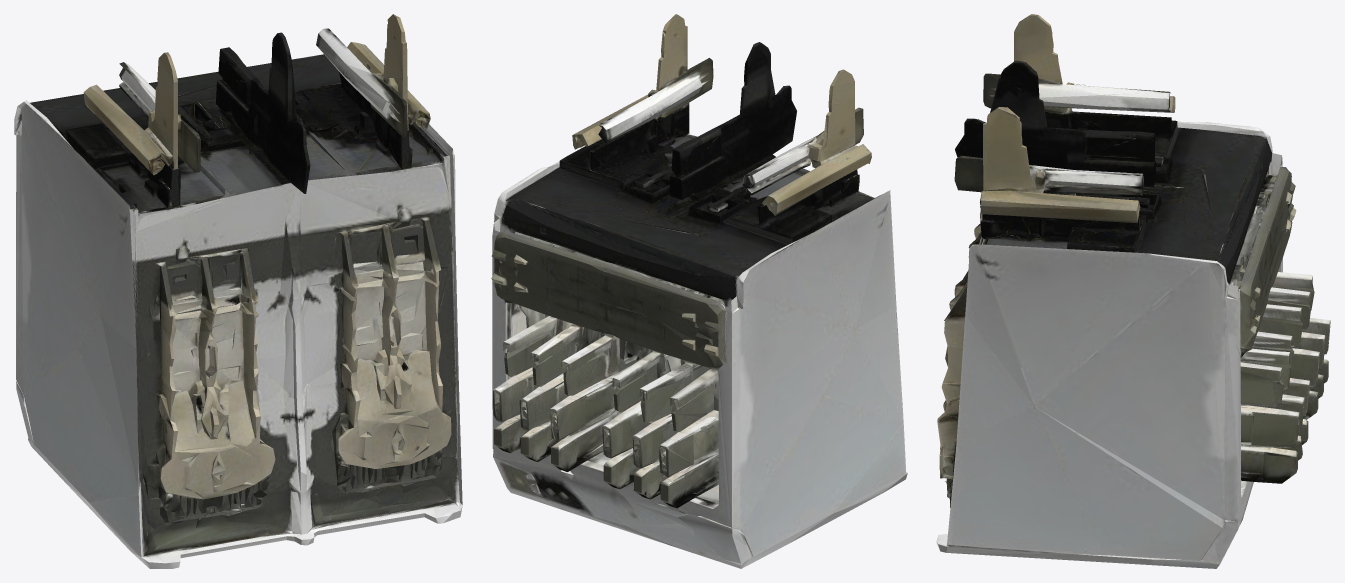
3 views of the same model, side by side, from view 1: azimuth 30°, elevation 25°; view 2: azimuth 150°, elevation 25°; view 3: azimuth 270°, elevation 25° (orthographic). The views are drawn at different scales.
Parts seen in each view (by area): view 1: 0; view 2: 0; view 3: 0.
Boxes of the visible parts, left/top/right/bottom form: 0: left=14, top=14, right=462, bottom=568; 0: left=491, top=14, right=907, bottom=568; 0: left=936, top=14, right=1330, bottom=568.
Size of the model in its own units: 0.7007 by 0.9509 by 0.7746.
Materials: 1 (1 with a texture image).
